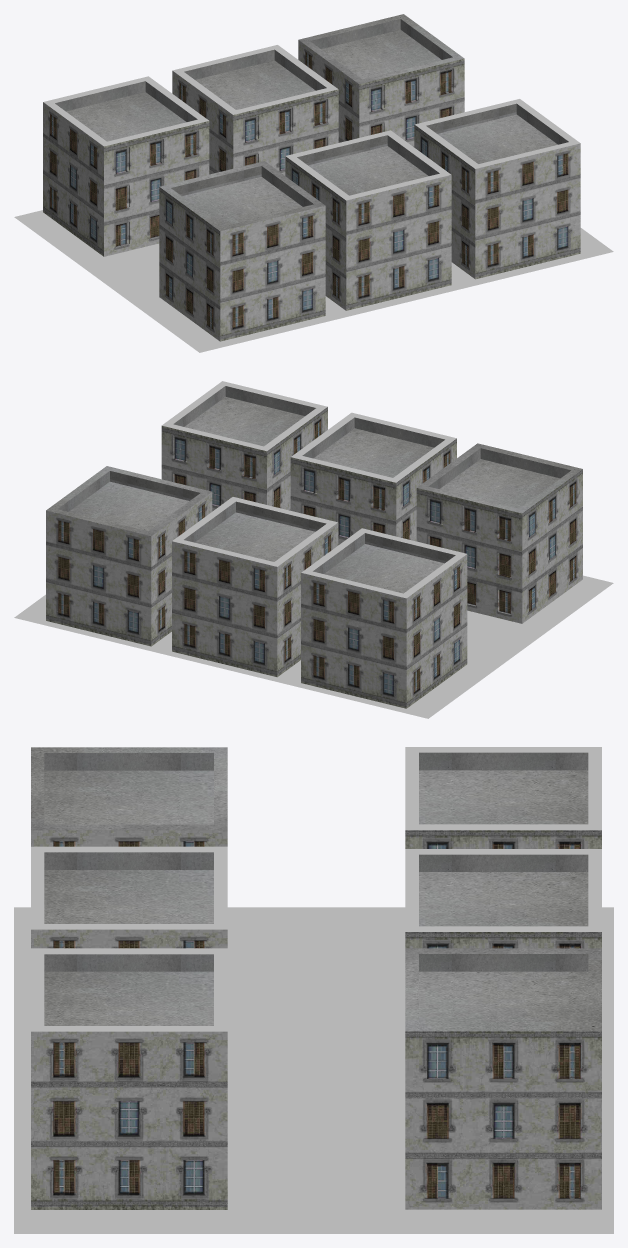
Rendered from Build.obj.
3 views of the same model, one above another, from view 1: azimuth 30°, elevation 25°; view 2: azimuth 150°, elevation 25°; view 3: azimuth 270°, elevation 25° (orthographic). The views are drawn at different scales.
Parts seen in each view (by area): view 1: Buil.006_Cube.011, Buil.003_Cube.008, Buil.004_Cube.009, Buil.005_Cube.010, Buil.001_Cube.007, Buil.000_Cube.006, Plane; view 2: Buil.003_Cube.008, Buil.006_Cube.011, Buil.001_Cube.007, Buil.000_Cube.006, Buil.004_Cube.009, Buil.005_Cube.010, Plane; view 3: Plane, Buil.004_Cube.009, Buil.000_Cube.006, Buil.005_Cube.010, Buil.003_Cube.008, Buil.006_Cube.011, Buil.001_Cube.007.
Part boxes in pixels (x1=…): Buil.006_Cube.011: x1=159, y1=161, x2=325, y2=341; Buil.003_Cube.008: x1=43, y1=76, x2=209, y2=256; Buil.004_Cube.009: x1=414, y1=99, x2=580, y2=279; Buil.005_Cube.010: x1=285, y1=130, x2=451, y2=310; Buil.001_Cube.007: x1=172, y1=45, x2=338, y2=175; Buil.000_Cube.006: x1=298, y1=14, x2=464, y2=146; Plane: x1=14, y1=210, x2=613, y2=352; Buil.003_Cube.008: x1=301, y1=528, x2=467, y2=708; Buil.006_Cube.011: x1=416, y1=443, x2=582, y2=623; Buil.001_Cube.007: x1=172, y1=497, x2=338, y2=677; Buil.000_Cube.006: x1=46, y1=466, x2=212, y2=646; Buil.004_Cube.009: x1=161, y1=381, x2=327, y2=511; Buil.005_Cube.010: x1=290, y1=412, x2=456, y2=544; Plane: x1=14, y1=575, x2=613, y2=718; Plane: x1=14, y1=907, x2=613, y2=1233; Buil.004_Cube.009: x1=31, y1=948, x2=227, y2=1209; Buil.000_Cube.006: x1=405, y1=948, x2=601, y2=1209; Buil.005_Cube.010: x1=31, y1=846, x2=227, y2=948; Buil.003_Cube.008: x1=405, y1=747, x2=601, y2=848; Buil.006_Cube.011: x1=31, y1=747, x2=227, y2=846; Buil.001_Cube.007: x1=405, y1=849, x2=601, y2=948.
Bounding box in the file's own units: 96.36 × 24.79 × 74.78.
